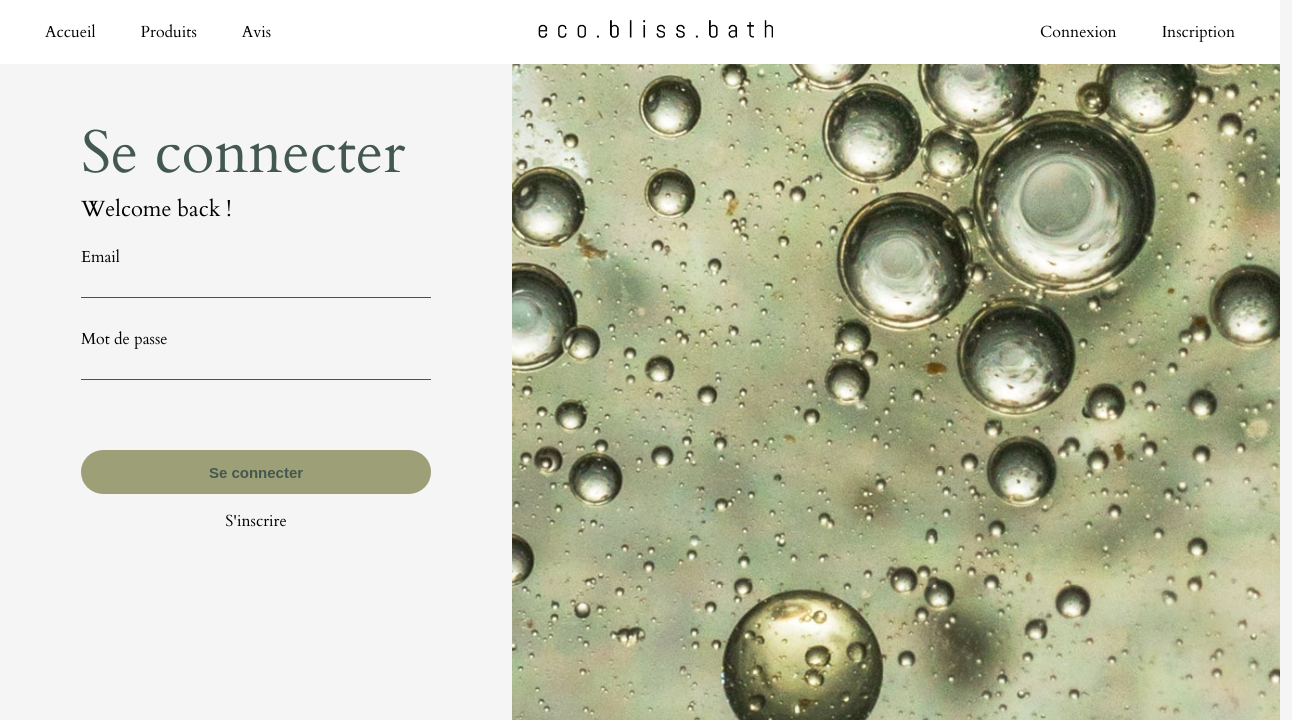
Test: Login Form Tests › should display a spinner and capture an error message when the server returns a 500 status
This screenshot has width=1292, height=720.
Note: Remplir le champ email
Step 1. Type "test2@test.com" into the field with test id "login-input-username" → (256, 283), box [81,268,431,298]
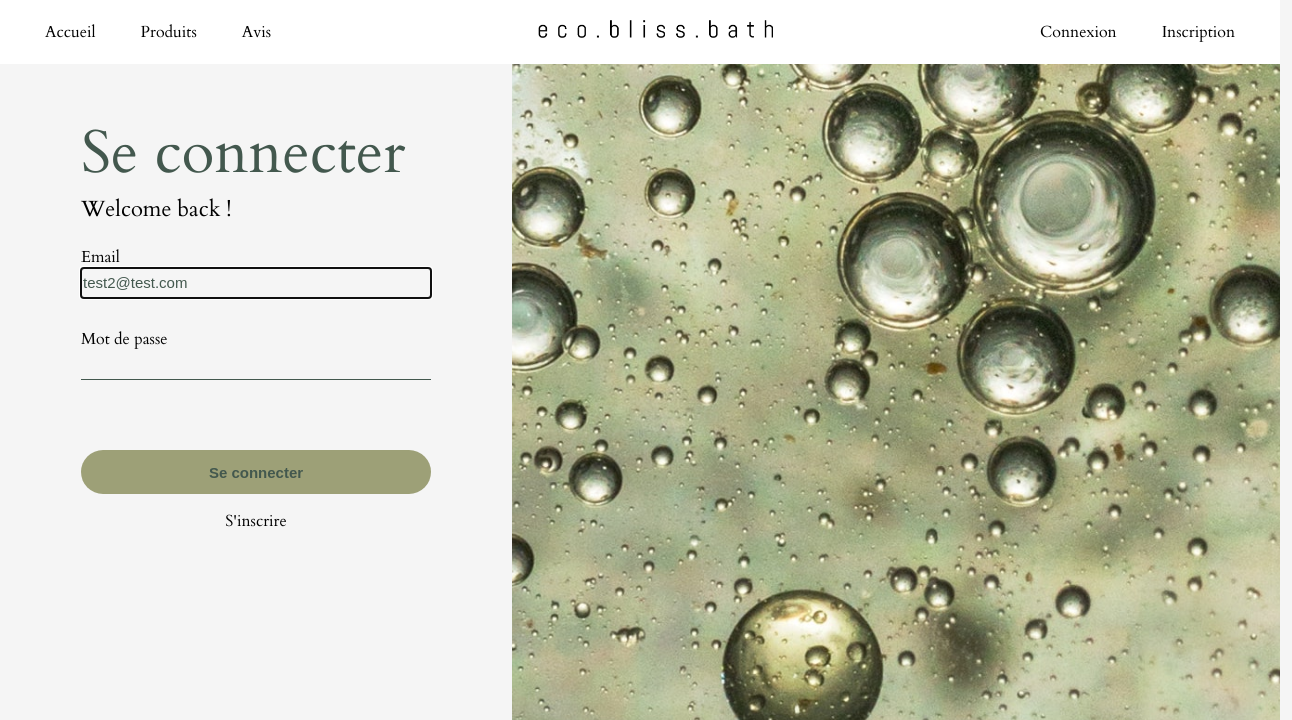
Note: Remplir le champ mot de passe
Step 2. Type "testtest" into the password field with test id "login-input-password" → (256, 365), box [81,350,431,380]
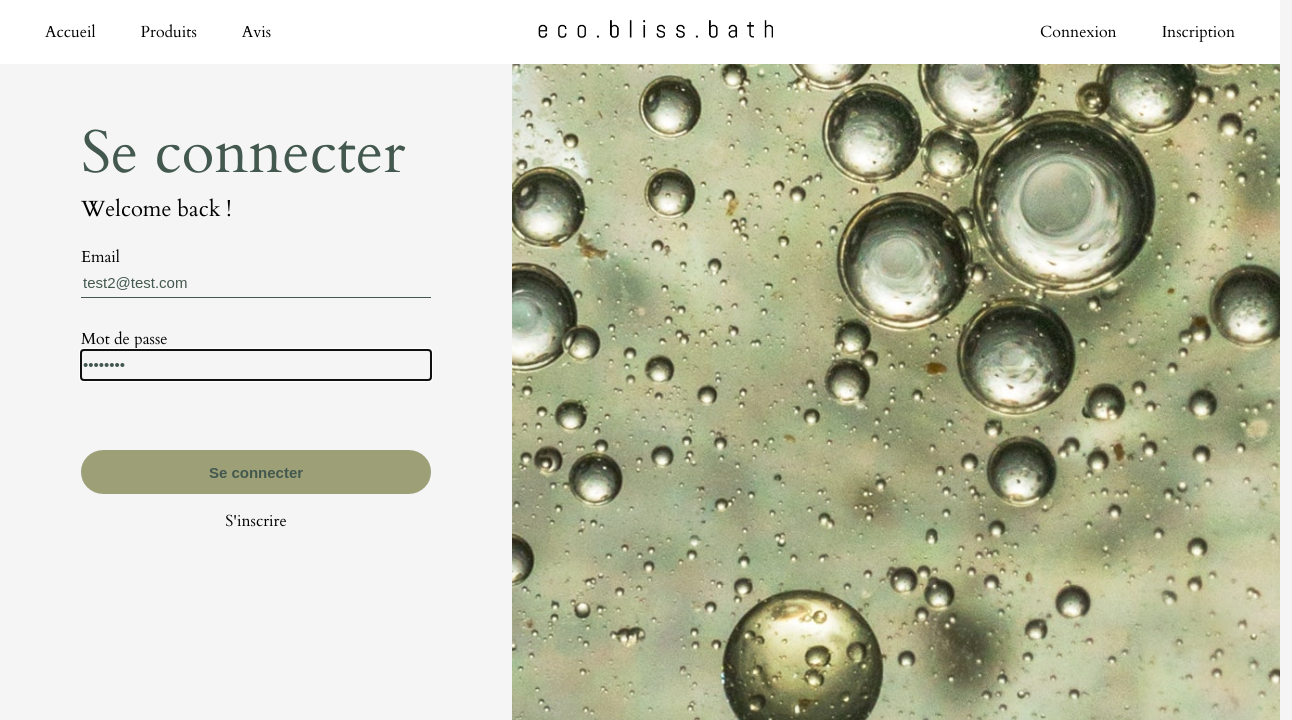
Note: Cliquer sur le bouton Soumettre
Step 3. Click the button with test id "login-submit" → click(256, 472), box [81,450,431,494]
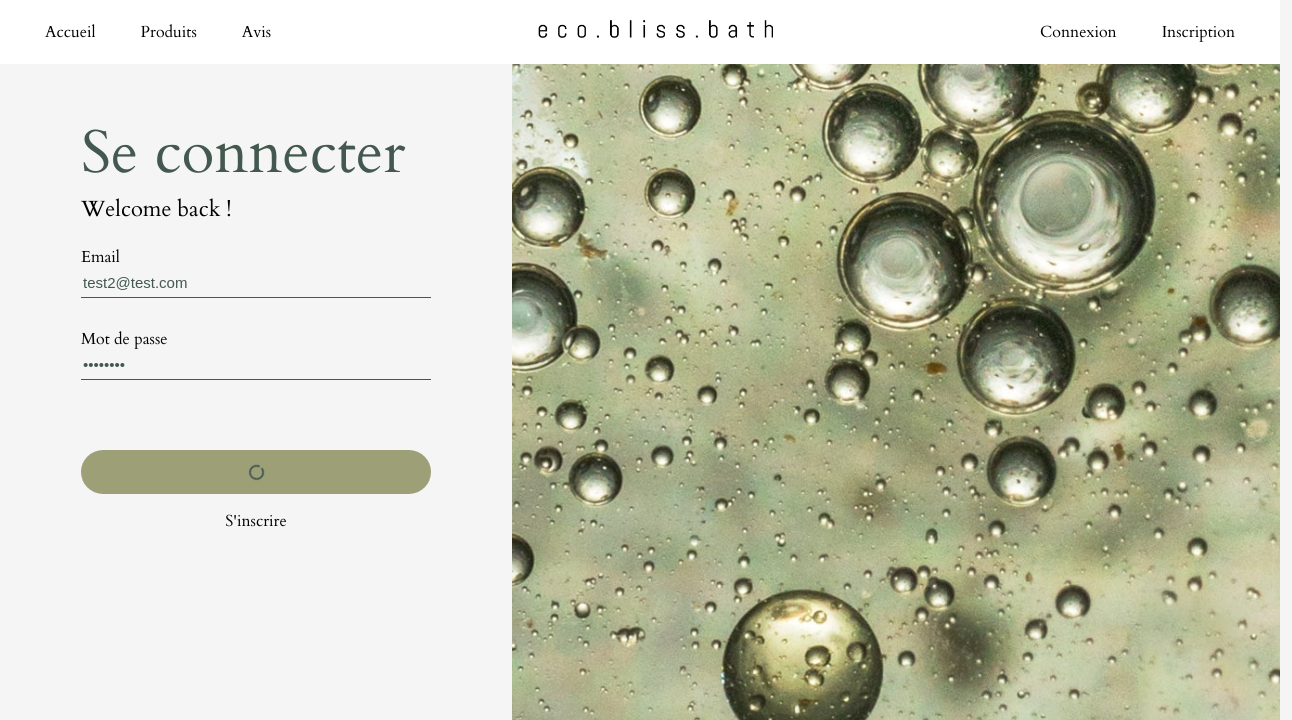
Now the icon with class "fa-spin" is shown, box [246,462,267,483]
